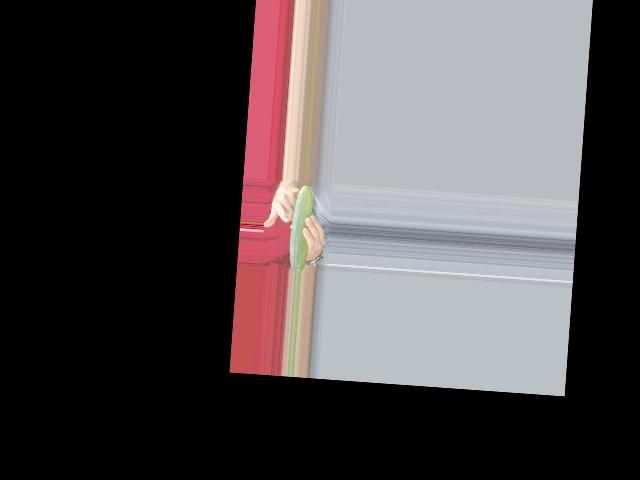cucumber: (288, 184, 314, 272)
